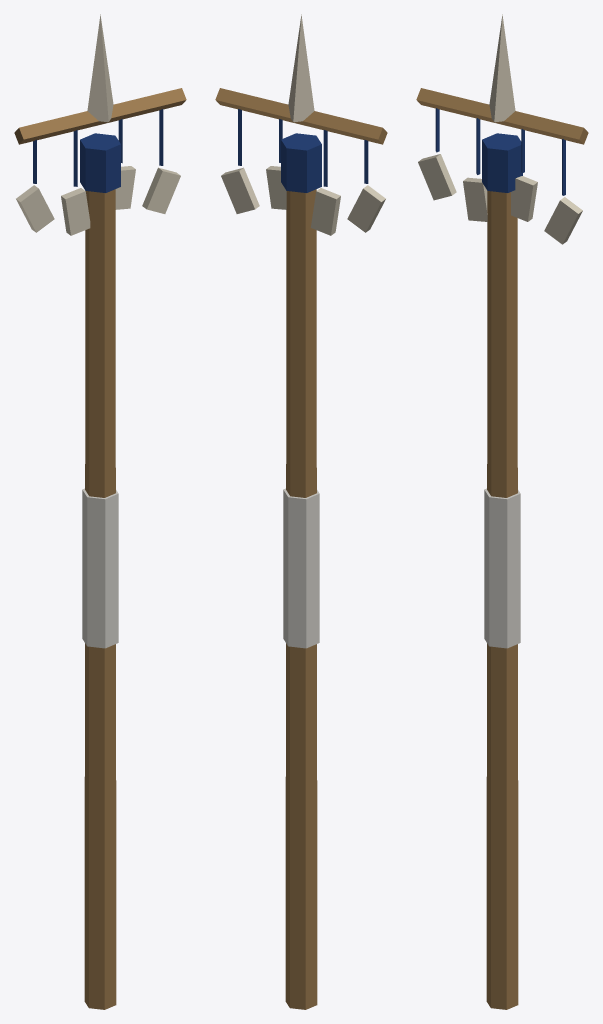
The model's file is weapon_staff.glb.
3 renders of one model, left to right at view 1: azimuth 30°, elevation 25°; view 2: azimuth 150°, elevation 25°; view 3: azimuth 330°, elevation 25°, orthographic.
Parts seen in each view (by area): view 1: owl_weapon_staff; view 2: owl_weapon_staff; view 3: owl_weapon_staff.
Part boxes in pixels (left/top/right/bottom): owl_weapon_staff: left=14, top=14, right=186, bottom=1009; owl_weapon_staff: left=215, top=14, right=387, bottom=1009; owl_weapon_staff: left=416, top=14, right=588, bottom=1009.
Bounding box in the file's own units: 0.2413 × 1.39 × 0.0522.
